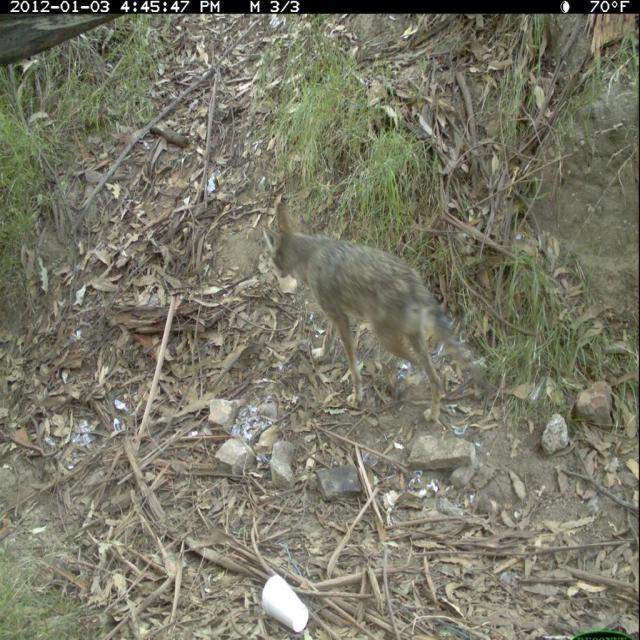coyote: (260, 195, 500, 429)
